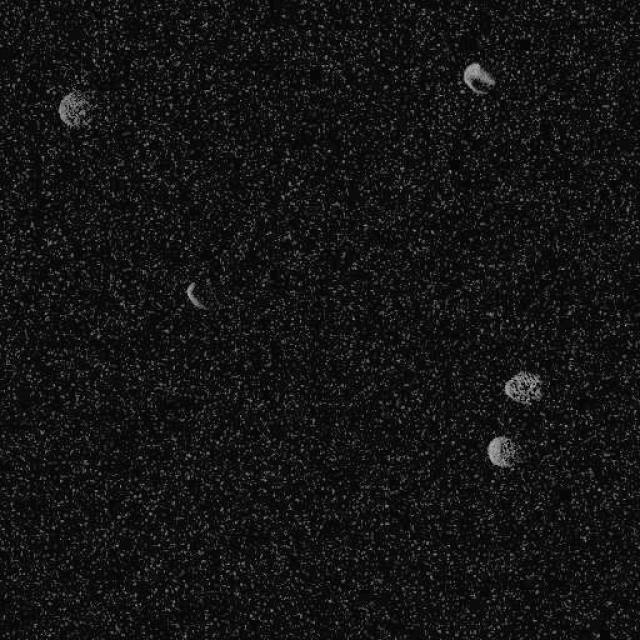D2: (56, 89, 95, 130), (502, 369, 542, 405), (461, 61, 495, 94), (485, 435, 516, 467), (184, 280, 208, 310)
